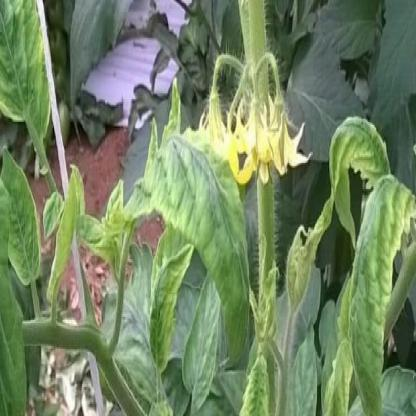Tomato leaf yellow virus: (143, 131, 252, 360), (342, 169, 410, 408)
